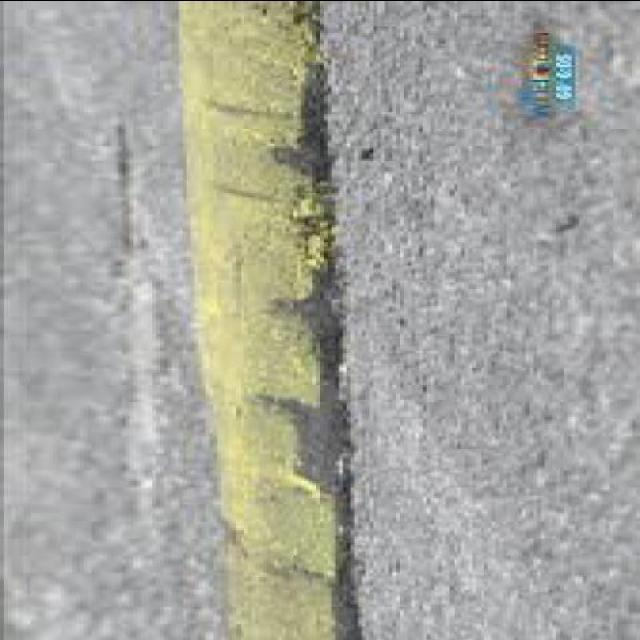speedbreaker: (144, 0, 378, 640)
